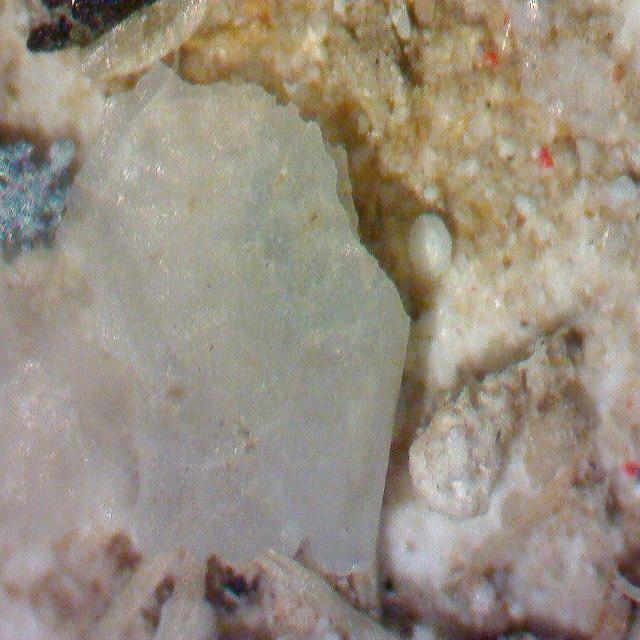microplastic: (56, 58, 412, 575)
